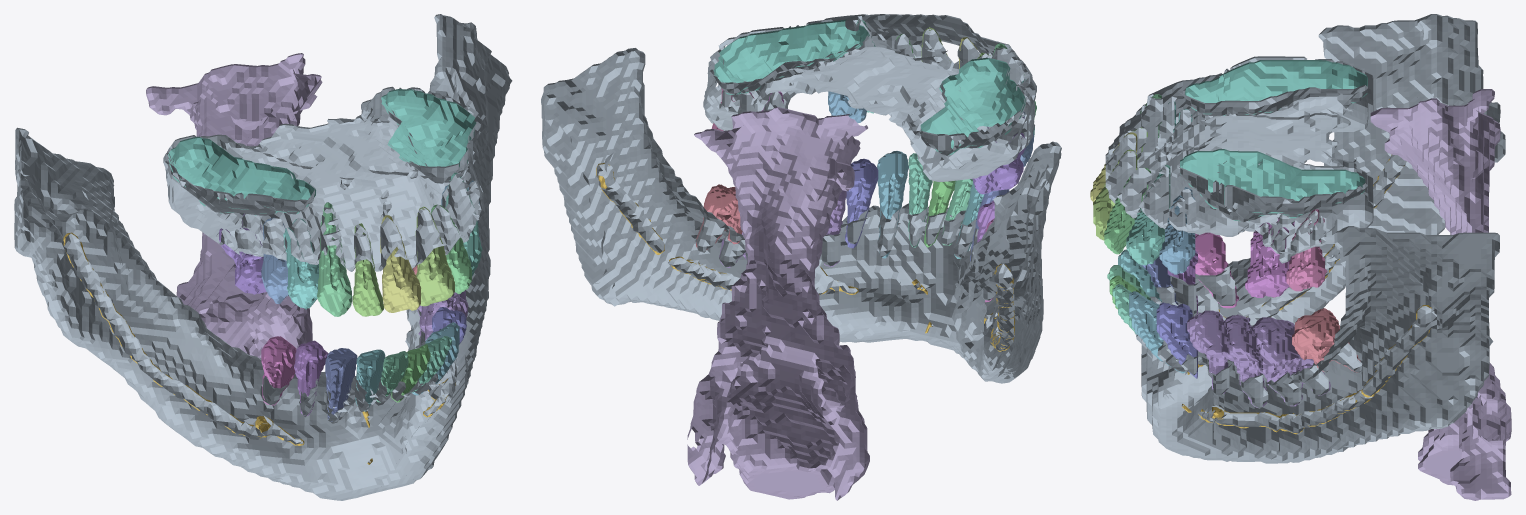
The model's file is ToothFairy3F_002.glb.
3 views of the same model, side by side, from view 1: azimuth 30°, elevation 25°; view 2: azimuth 150°, elevation 25°; view 3: azimuth 270°, elevation 25° (orthographic).
Visible parts, largest first — view 1: jaws__1, jaws__2, airway__7, sinuses__5, sinuses__6, teeth__13, teeth__11, teeth__21, teeth__14, teeth__43, teeth__45, teeth__12 (+13 smaller); view 2: jaws__1, airway__7, jaws__2, sinuses__5, sinuses__6, teeth__33, teeth__34, teeth__37, teeth__16, teeth__32, teeth__31, teeth__41 (+1 smaller); view 3: jaws__1, jaws__2, airway__7, sinuses__5, restorations__9, sinuses__6, teeth__26, teeth__37, teeth__34, teeth__23, teeth__27, teeth__24 (+9 smaller).
Part boxes in pixels (<box>): jaws__1: <box>14,14,512,500</box>; jaws__2: <box>163,86,484,271</box>; airway__7: <box>146,53,322,358</box>; sinuses__5: <box>381,89,476,180</box>; sinuses__6: <box>168,136,315,215</box>; teeth__13: <box>317,202,352,316</box>; teeth__11: <box>380,215,420,312</box>; teeth__21: <box>415,206,454,306</box>; teeth__14: <box>283,218,318,309</box>; teeth__43: <box>325,348,357,421</box>; teeth__45: <box>261,336,296,405</box>; teeth__12: <box>352,223,383,316</box>; jaws__1: <box>541,48,1061,383</box>; airway__7: <box>687,107,869,500</box>; jaws__2: <box>703,14,1036,181</box>; sinuses__5: <box>713,19,869,94</box>; sinuses__6: <box>920,57,1025,155</box>; teeth__33: <box>877,151,908,258</box>; teeth__34: <box>845,158,878,248</box>; teeth__37: <box>696,184,742,250</box>; teeth__16: <box>972,117,1025,194</box>; teeth__32: <box>908,153,932,247</box>; teeth__31: <box>924,180,955,247</box>; teeth__41: <box>942,179,972,245</box>; jaws__1: <box>1135,14,1505,463</box>; jaws__2: <box>1105,56,1373,263</box>; airway__7: <box>1370,89,1511,500</box>; sinuses__5: <box>1180,149,1365,221</box>; restorations__9: <box>1187,310,1313,378</box>; sinuses__6: <box>1185,60,1367,115</box>; teeth__26: <box>1245,217,1294,297</box>; teeth__37: <box>1292,308,1360,372</box>; teeth__34: <box>1156,302,1197,378</box>; teeth__23: <box>1126,164,1170,265</box>; teeth__27: <box>1286,209,1327,291</box>; teeth__24: <box>1159,187,1195,274</box>.
Size of the model in its own units: 119 by 81.94 by 91.55.
